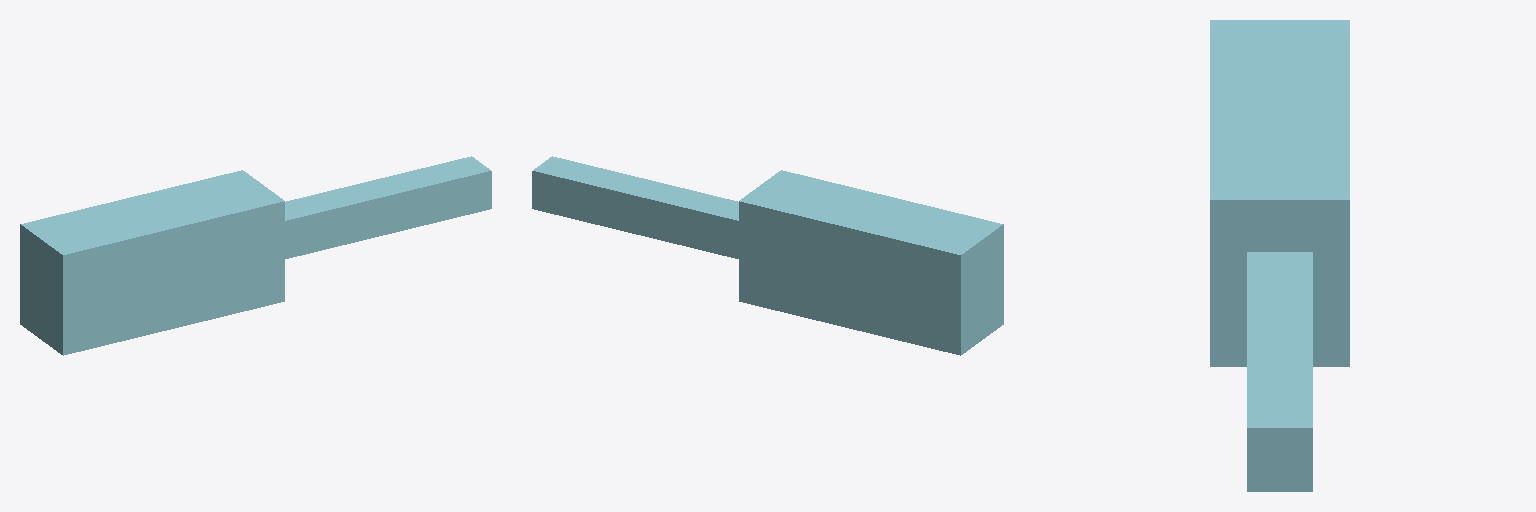
robot.urdf — cuboid_screwdriver_v2003:
<?xml version="1.0"?>
<robot name="cuboid_screwdriver_v2003">

  <link name="cuboid_screwdriver_v2003">
    <!-- Handle -->
    <visual>
      <origin xyz="0 0 0" rpy="0 0 0"/>
      <geometry>
        <box size="0.08148280149994276 0.026977333266797816 0.035164880104192865"/>
      </geometry>
      <material name="material">
        <color rgba="0.639 0.847 0.882 1.0"/>
      </material>
    </visual>
    <collision>
      <origin xyz="0 0 0" rpy="0 0 0"/>
      <geometry>
        <box size="0.08148280149994276 0.026977333266797816 0.035164880104192865"/>
      </geometry>
    </collision>

    <!-- Head -->
    <visual>
      <origin xyz="0.08061470093511264 0 0" rpy="0 0 0"/>
      <geometry>
        <box size="0.0797466003702825 0.012531649658103165 0.013471312178214432"/>
      </geometry>
      <material name="material">
        <color rgba="0.639 0.847 0.882 1.0"/>
      </material>
    </visual>
    <collision>
      <origin xyz="0.08061470093511264 0 0" rpy="0 0 0"/>
      <geometry>
        <box size="0.0797466003702825 0.012531649658103165 0.013471312178214432"/>
      </geometry>
    </collision>

    <inertial>
      <density value="400.0"/>
    </inertial>
  </link>

</robot>

--- Facts derived from the render (not from the file) ---
Views: 3 orthographic renders of the robot side by side, from view 1: azimuth 30°, elevation 25°; view 2: azimuth 150°, elevation 25°; view 3: azimuth 270°, elevation 25°.
Model cuboid_screwdriver_v2003 with 1 links and 0 joints (none), rooted at cuboid_screwdriver_v2003, posed all joints at 0.
Visible links, largest first — view 1: cuboid_screwdriver_v2003; view 2: cuboid_screwdriver_v2003; view 3: cuboid_screwdriver_v2003.
Boxes of the visible links, x1=… form: cuboid_screwdriver_v2003: x1=20, y1=156, x2=491, y2=355; cuboid_screwdriver_v2003: x1=532, y1=156, x2=1003, y2=355; cuboid_screwdriver_v2003: x1=1210, y1=20, x2=1349, y2=491.
Bounding box of the posed robot: 0.1612 × 0.027 × 0.0352 m (x, y, z).
Geometry: primitives only (box / cylinder / sphere), no mesh files.
